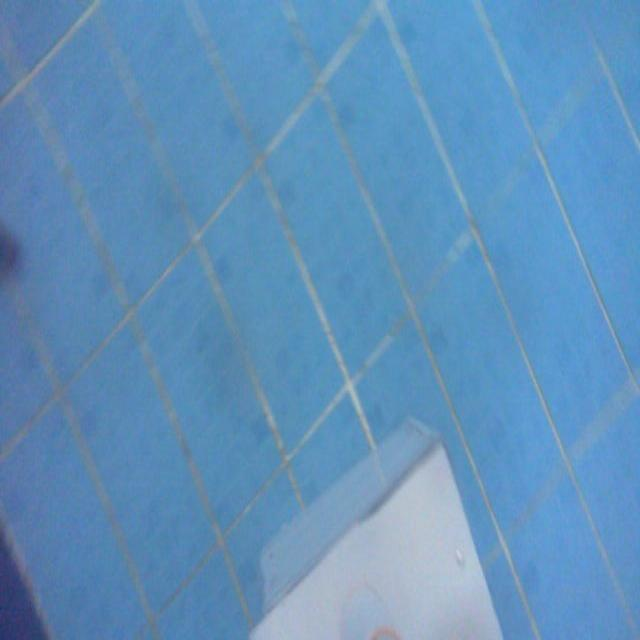Cuboid: (245, 425, 506, 638)
